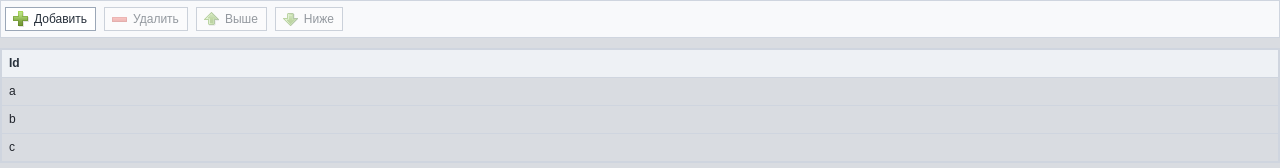
Test: CollectionEditor › disables row actions until a row is selected and at the edges
Expected: the button "Удалить" is disabled, [104,7,188,31]
Click the text "a": (640, 92) [2,78,1278,106]
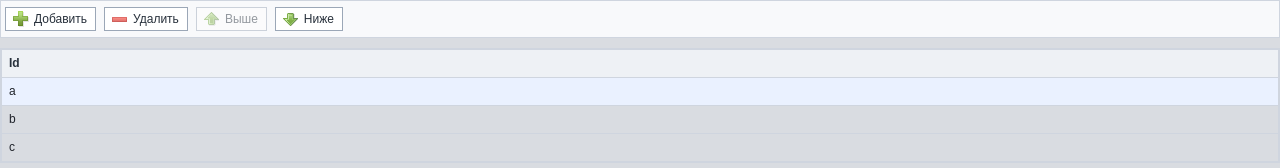
Expected: the button "Выше" is disabled, [196,7,267,31]
Expected: the button "Удалить" is enabled, [104,7,188,31]
Expected: the button "Ниже" is enabled, [275,7,343,31]
